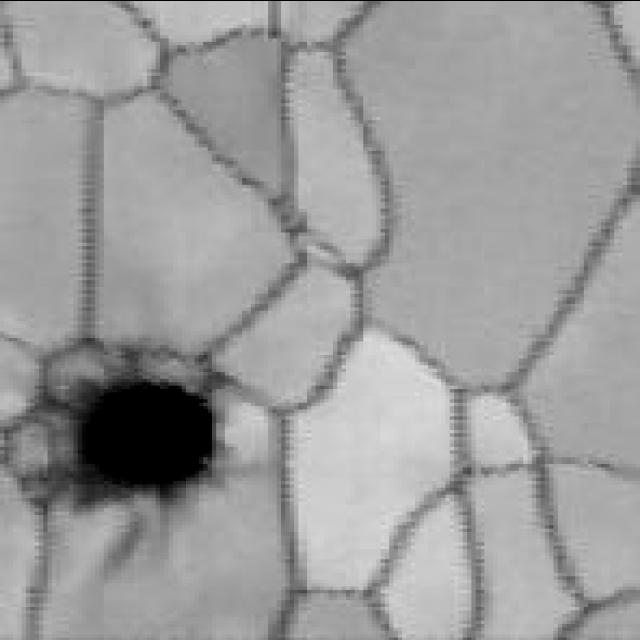good_void: (22, 345, 223, 504)
